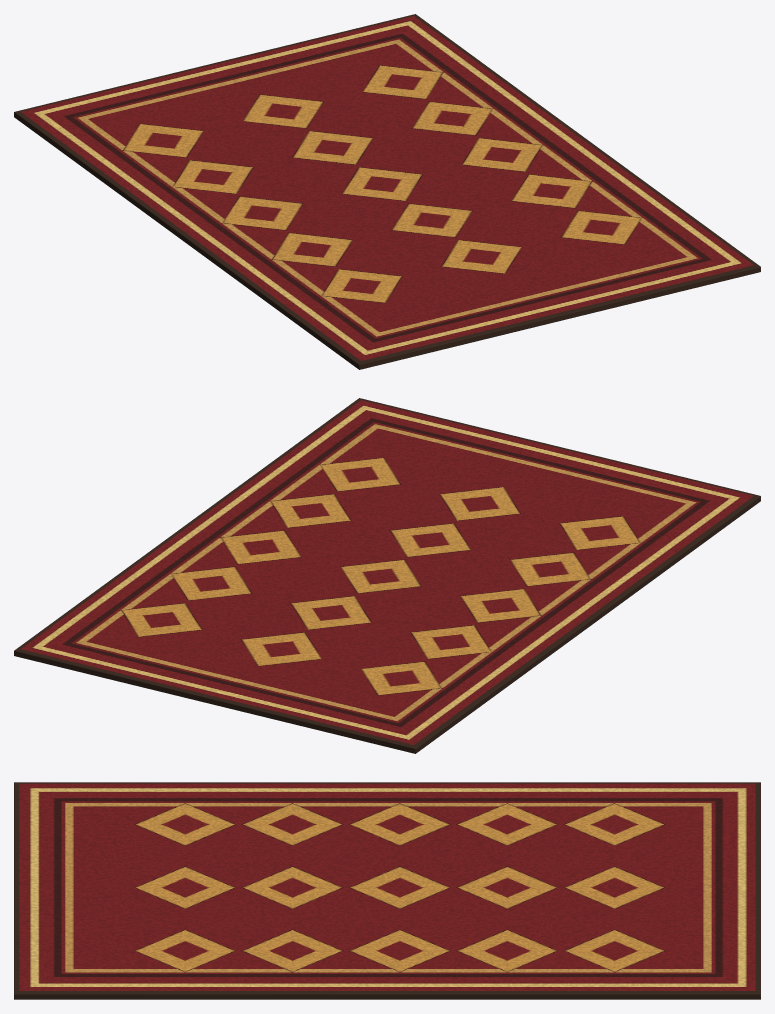
File: Tham_Do_1m2.glb
3 renders of one model, top to bottom at view 1: azimuth 30°, elevation 25°; view 2: azimuth 150°, elevation 25°; view 3: azimuth 270°, elevation 25°, orthographic. The views are drawn at different scales.
Parts seen in each view (by area): view 1: Tham_Do_1m2; view 2: Tham_Do_1m2; view 3: Tham_Do_1m2.
Part boxes in pixels (x1,y1,x2,y2): Tham_Do_1m2: (14,14,760,369); Tham_Do_1m2: (14,398,760,753); Tham_Do_1m2: (14,782,760,999).
Size of the model in its own units: 0.92 by 0.0135 by 1.37.
Materials: 2 (1 with a texture image).
